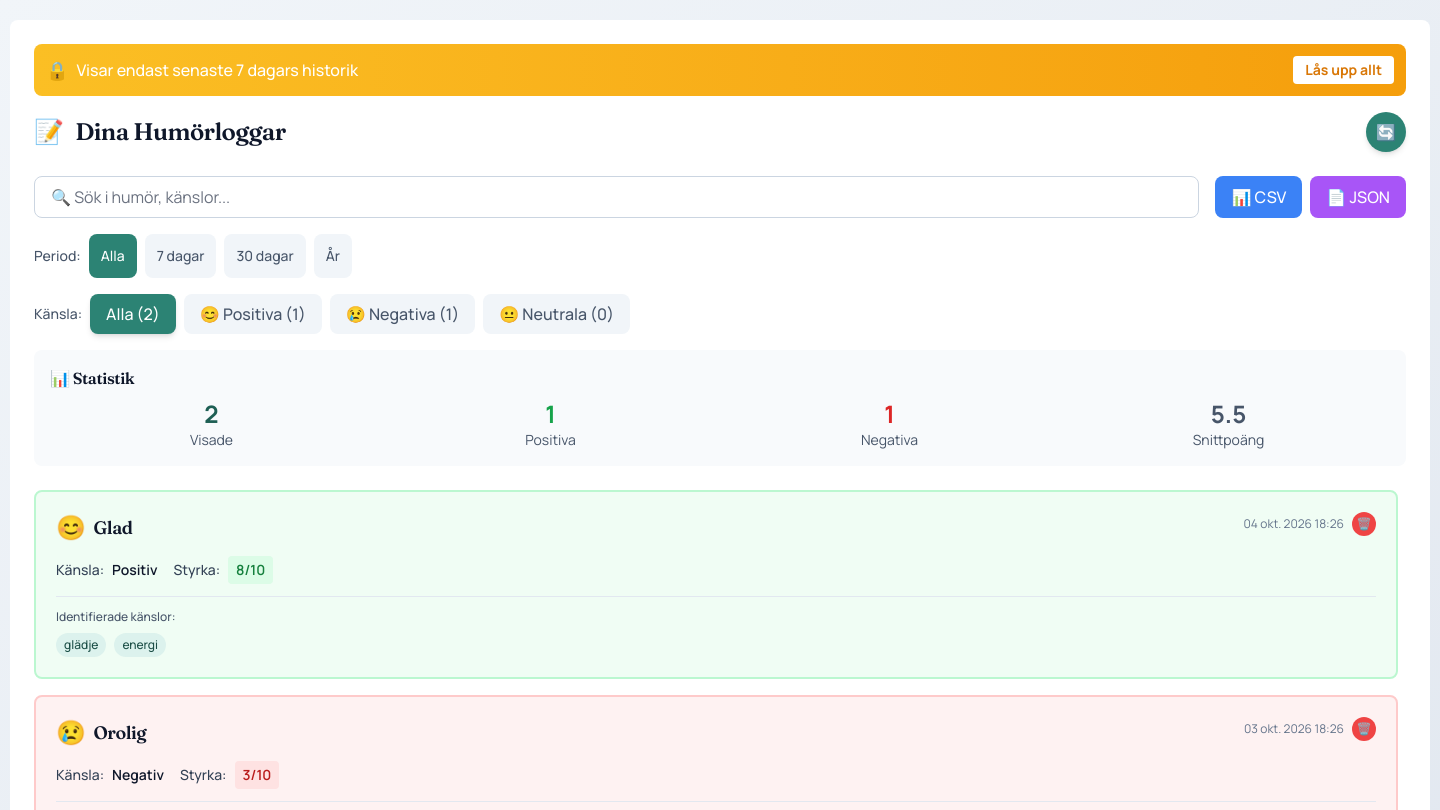
Scenario: MoodList Component › filters moods by sentiment
The width and height of the screenshot is (1440, 810).
Check: the heading "😊 Glad" is shown, box [56,512,132,544]
// Click on positive filter button (use role to distinguish from stats label)
Step 1. Click the button "😊 Positiva (1)" → (253, 314), box [184,294,322,334]
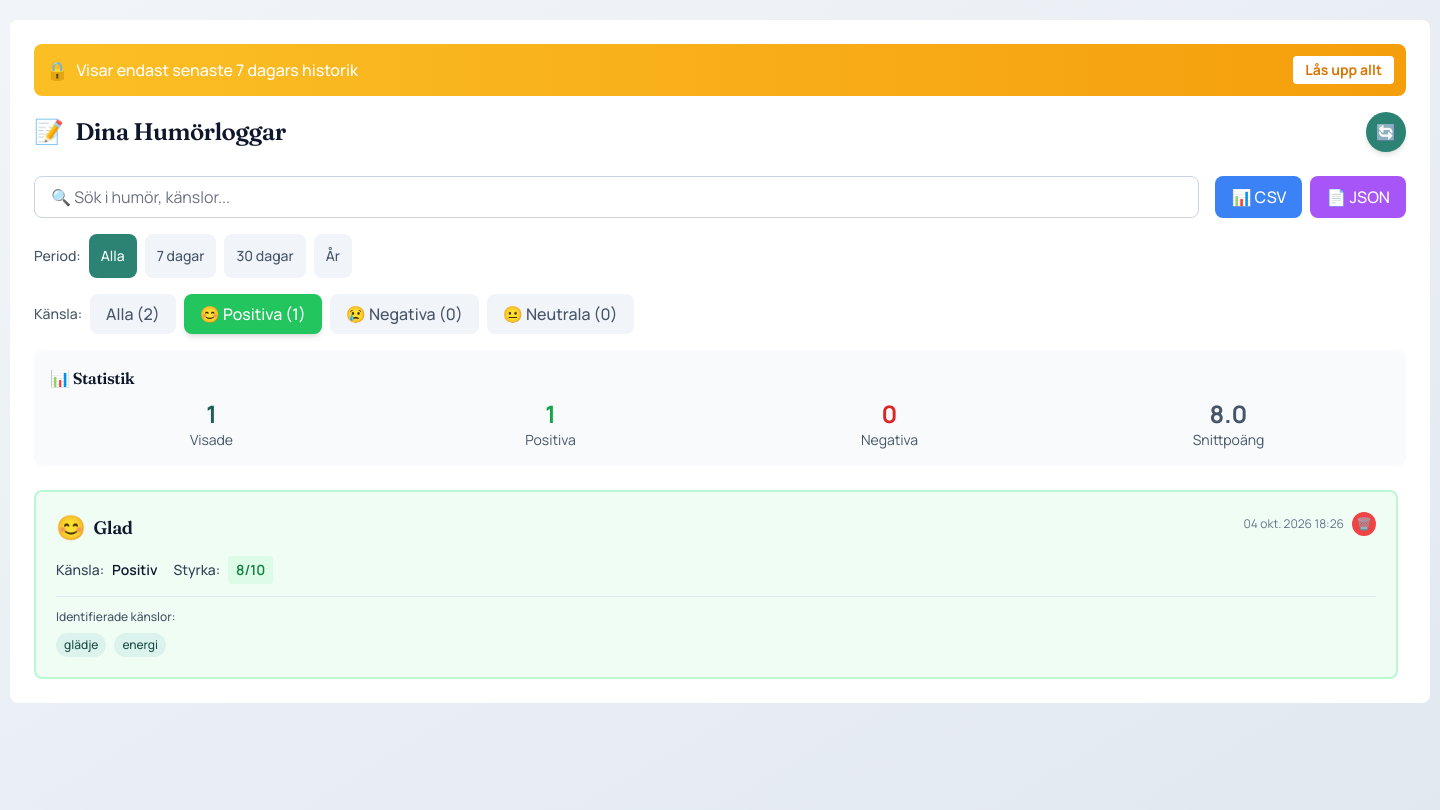
Check: the heading "😊 Glad" is shown, box [56,512,132,544]
Check: the heading "Orolig" is gone
